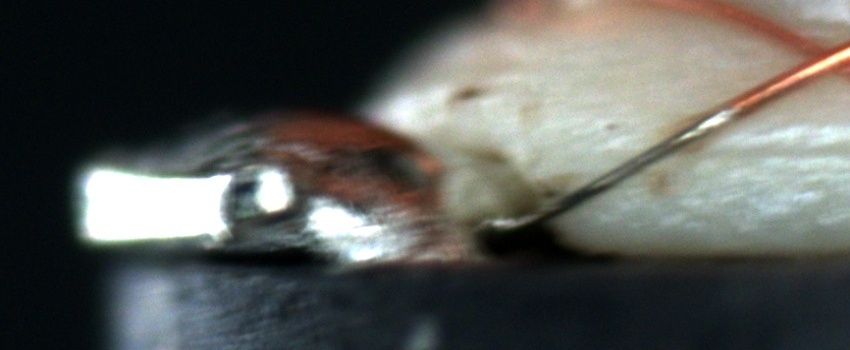DL: (641, 119, 849, 183)
TS: (475, 107, 741, 234)
TTCW: (491, 77, 781, 229)
